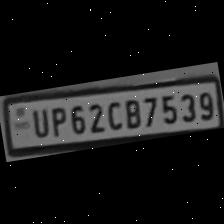2: (82, 100, 106, 134)
3: (174, 90, 198, 124)
5: (154, 90, 180, 127)
6: (64, 102, 88, 136)
7: (138, 93, 160, 127)
9: (194, 88, 216, 122)
B: (120, 95, 142, 129)
C: (102, 98, 125, 132)
P: (45, 104, 68, 138)
U: (26, 104, 51, 138)
